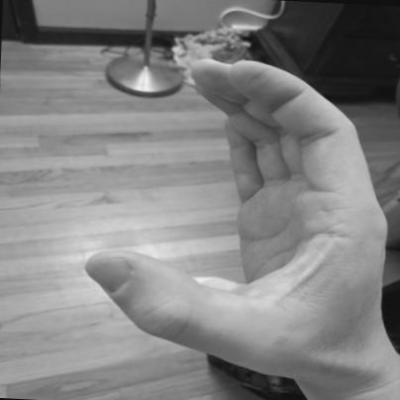hand: (67, 46, 399, 391)
